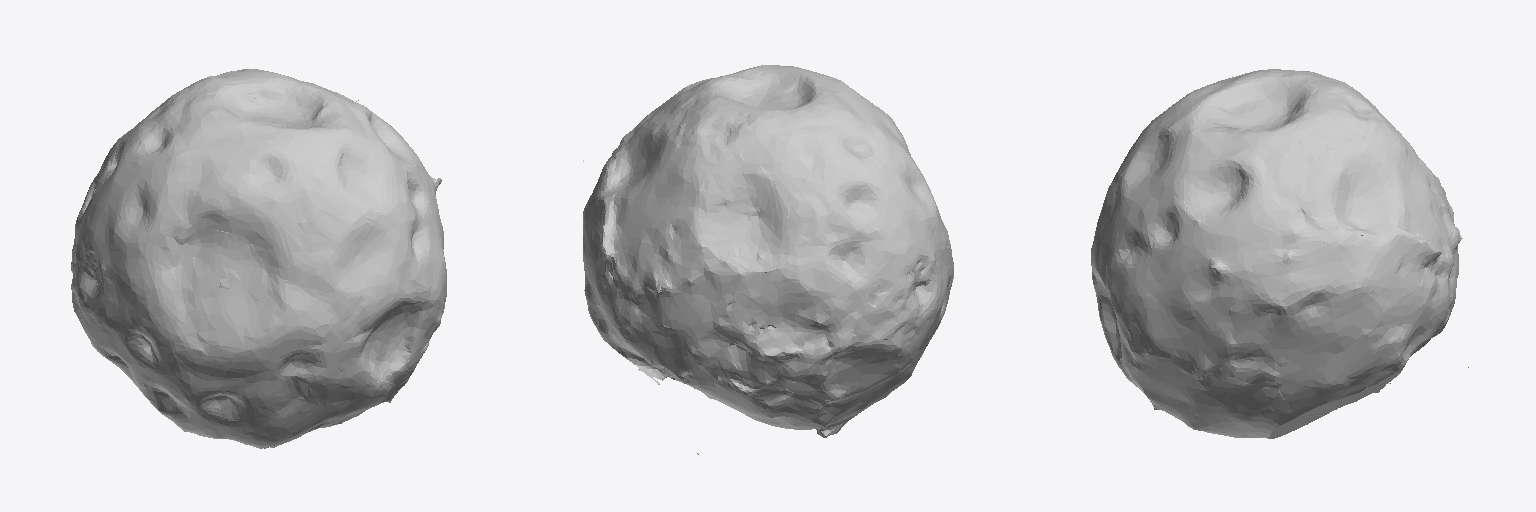
Rendered from TheMoon_LowPoly.obj.
3 views of the same model, side by side, from view 1: azimuth 30°, elevation 25°; view 2: azimuth 150°, elevation 25°; view 3: azimuth 270°, elevation 25° (orthographic).
Visible parts, largest first — view 1: 3DModel_LowPoly; view 2: 3DModel_LowPoly; view 3: 3DModel_LowPoly.
Boxes of the visible parts, x1,y1,x2,y2 form: 3DModel_LowPoly: [71, 69, 446, 448]; 3DModel_LowPoly: [583, 65, 953, 454]; 3DModel_LowPoly: [1091, 69, 1468, 438].
Size of the model in its own units: 0.1291 by 0.1217 by 0.1291.